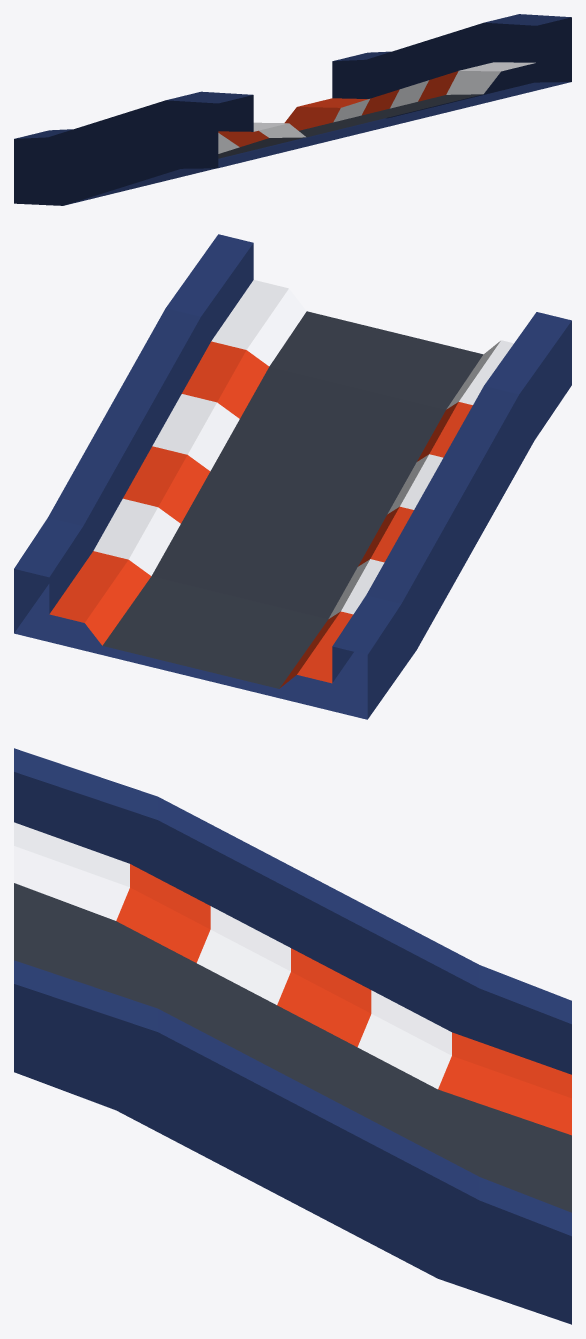
The model's file is Ramp.fbx.
The picture shows the model from 3 angles, top to bottom: view 1: azimuth 30°, elevation 25°; view 2: azimuth 150°, elevation 25°; view 3: azimuth 270°, elevation 25°; orthographic projection. The views are drawn at different scales.
Parts seen in each view (by area): view 1: ramp; view 2: ramp; view 3: ramp.
Boxes of the visible parts, x1=… form: ramp: x1=14, y1=14, x2=571, y2=205; ramp: x1=14, y1=234, x2=571, y2=719; ramp: x1=14, y1=748, x2=571, y2=1324.
Size of the model in its own units: 400 by 270 by 400.
